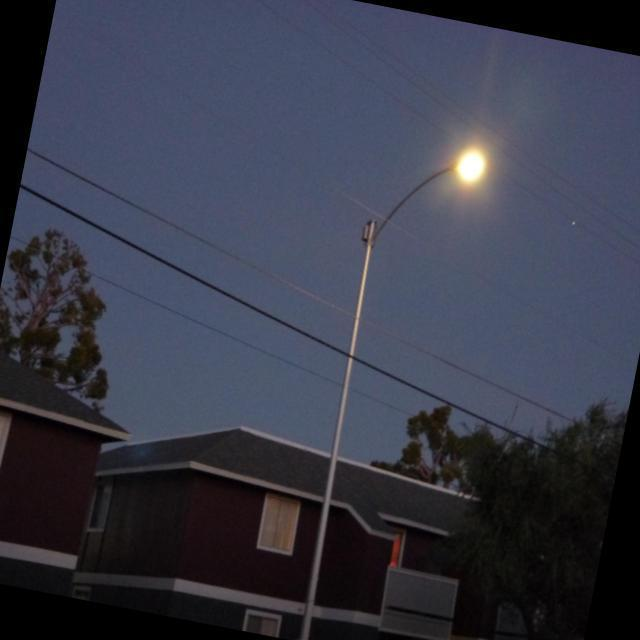on: (450, 120, 494, 206)
